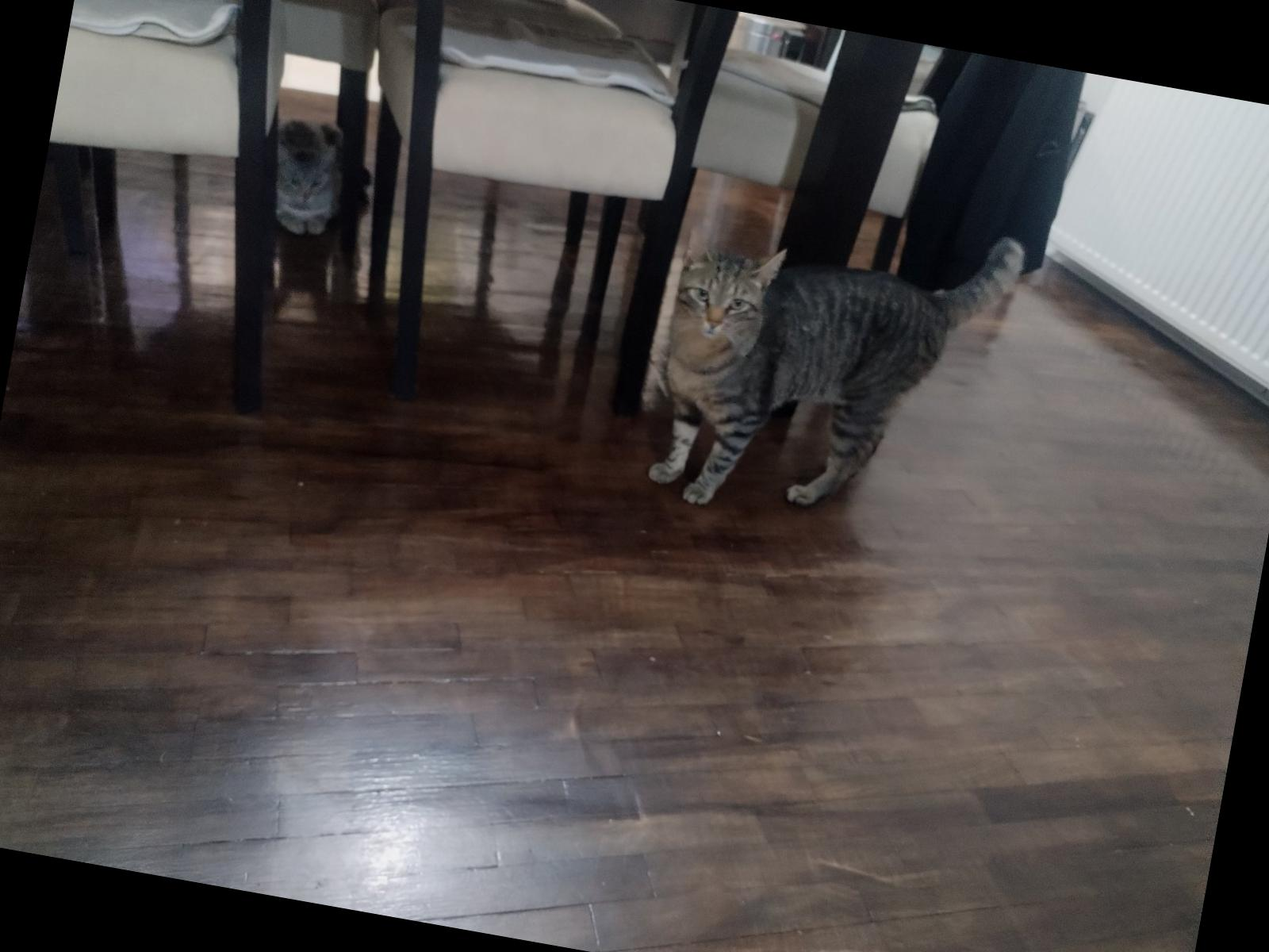macka: (636, 182, 1030, 557), (247, 111, 355, 242)
